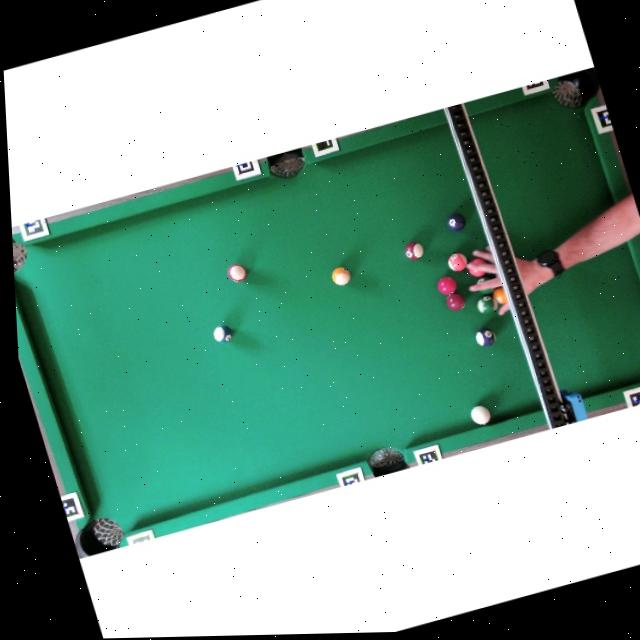cue ball: (468, 402, 493, 428)
other: (473, 291, 500, 317), (443, 210, 468, 234), (472, 274, 498, 297), (443, 290, 467, 314), (224, 261, 249, 284), (465, 255, 490, 278), (434, 274, 459, 297), (445, 250, 469, 273), (211, 322, 235, 345), (402, 240, 426, 262), (473, 326, 497, 348), (330, 265, 353, 287), (490, 285, 508, 306)
